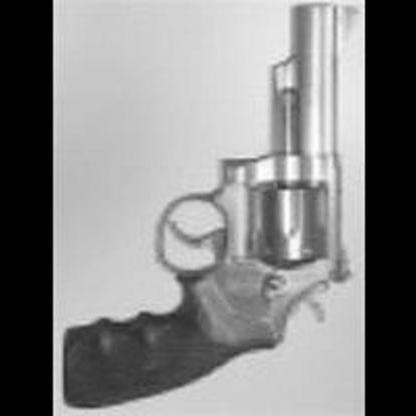weapon: (59, 2, 357, 412)
